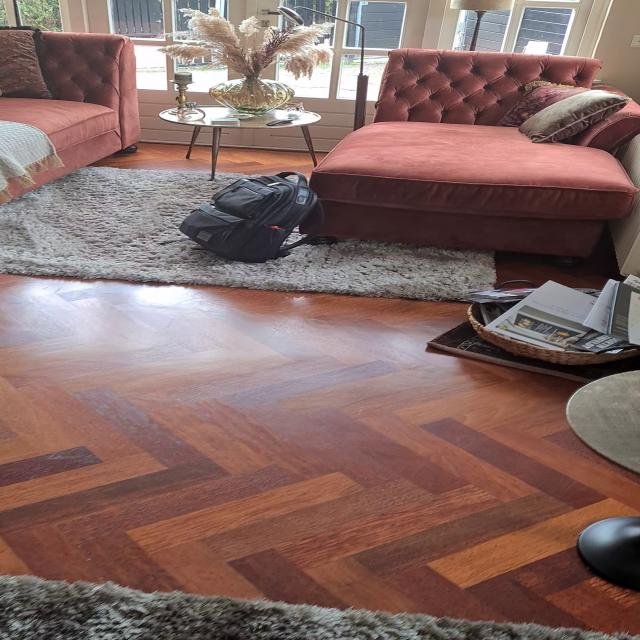backpack: (172, 168, 328, 264)
